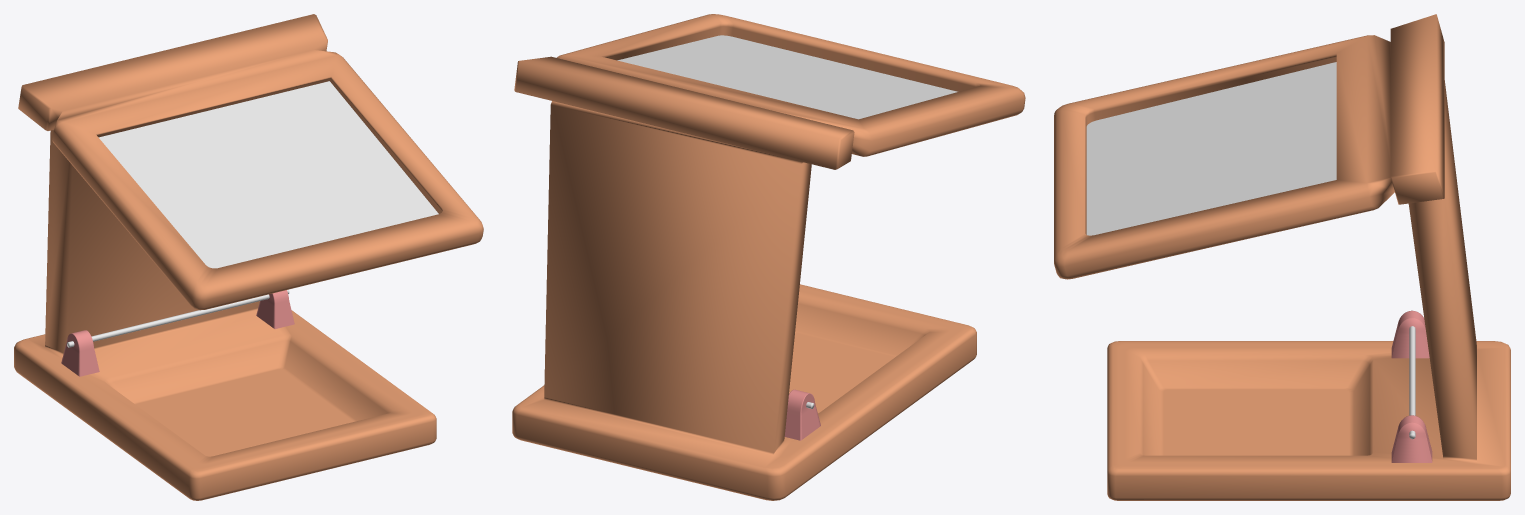
The model's file is loupe_v1.fbx.
The picture shows the model from 3 angles, left to right: view 1: azimuth 30°, elevation 25°; view 2: azimuth 150°, elevation 25°; view 3: azimuth 270°, elevation 25°; orthographic projection. The views are drawn at different scales.
Visible parts, largest first — view 1: loupe, plaque_verre; view 2: loupe, plaque_verre; view 3: loupe, plaque_verre.
Part boxes in pixels (box(x1,y1,x2,y2)): loupe: box(14, 14, 483, 500); plaque_verre: box(98, 81, 438, 268); loupe: box(512, 14, 1025, 500); plaque_verre: box(617, 35, 957, 119); loupe: box(1054, 14, 1510, 500); plaque_verre: box(1086, 62, 1336, 235).
Size of the model in its own units: 474 by 483 by 578.
